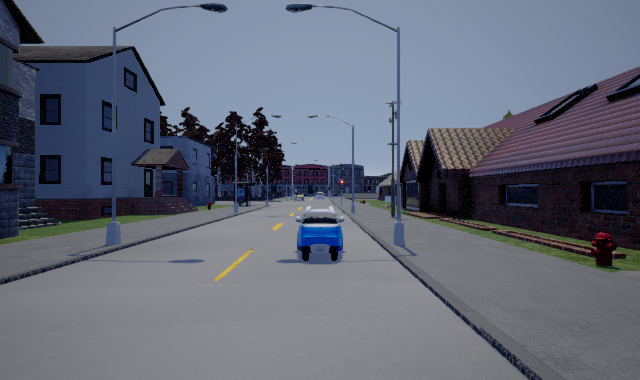traffic_light: (340, 179, 343, 190)
vehicle: (295, 204, 344, 261)
